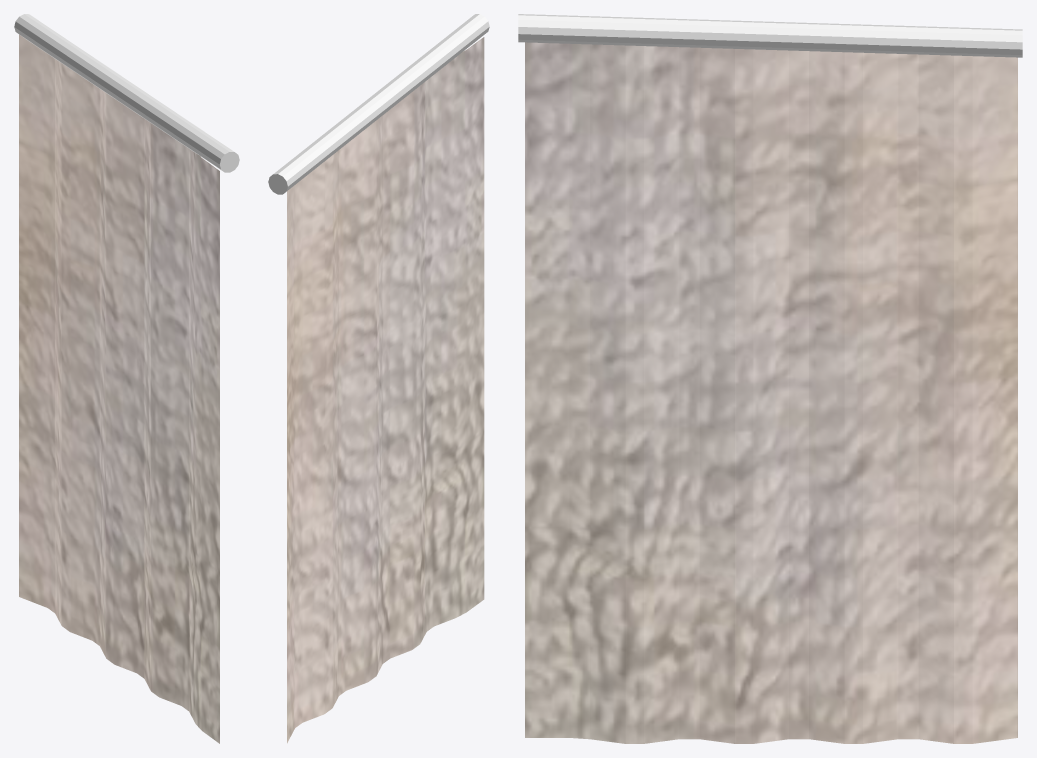
The model's file is TOWEL.glb.
3 renders of one model, left to right at view 1: azimuth 30°, elevation 25°; view 2: azimuth 150°, elevation 25°; view 3: azimuth 270°, elevation 25°, orthographic. The views are drawn at different scales.
Visible parts, largest first — view 1: toalha; view 2: toalha; view 3: toalha.
Boxes of the visible parts, x1,y1,x2,y2 form: toalha: (14, 14, 239, 743); toalha: (268, 14, 489, 743); toalha: (518, 14, 1022, 743).
Size of the model in its own units: 0.0983 by 2.78 by 1.75.
Materials: 2 (1 with a texture image).
